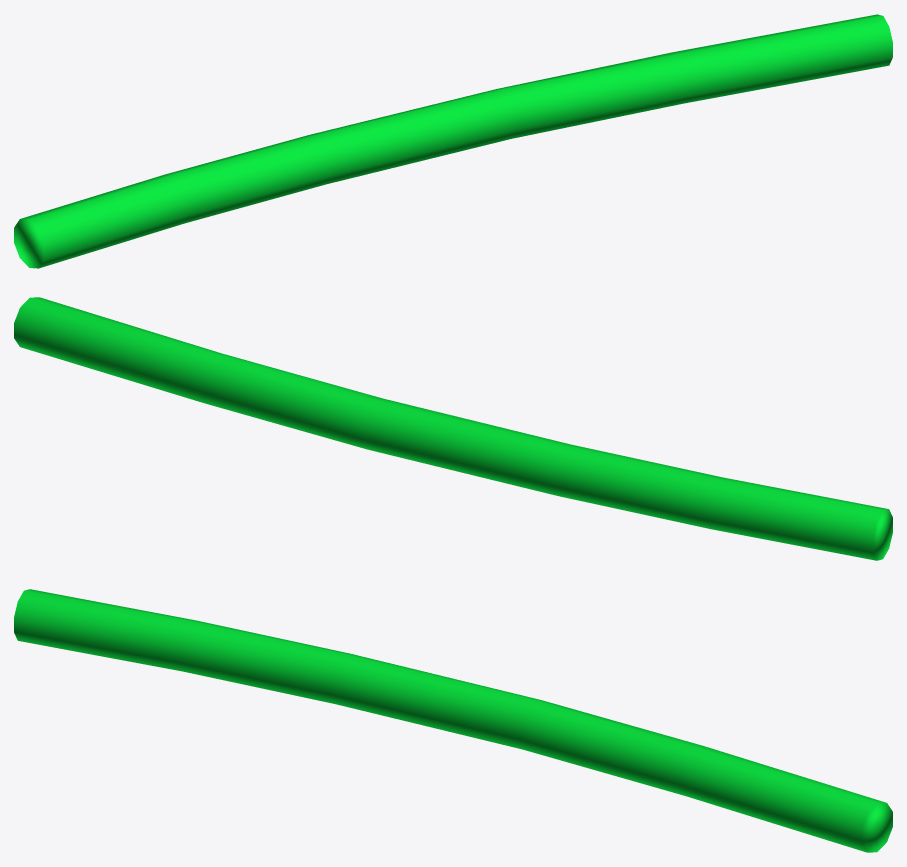
Rendered from Pipe_Turn_E_Ext.fbx.
3 renders of one model, top to bottom at view 1: azimuth 30°, elevation 25°; view 2: azimuth 150°, elevation 25°; view 3: azimuth 330°, elevation 25°, orthographic.
Parts seen in each view (by area): view 1: Pipe_Turn_E_Ext; view 2: Pipe_Turn_E_Ext; view 3: Pipe_Turn_E_Ext.
Boxes of the visible parts, <box> form: Pipe_Turn_E_Ext: <box>14,14,892,268</box>; Pipe_Turn_E_Ext: <box>14,297,892,560</box>; Pipe_Turn_E_Ext: <box>14,589,892,852</box>.
Size of the model in its own units: 4.17 by 0.2269 by 0.3683.
